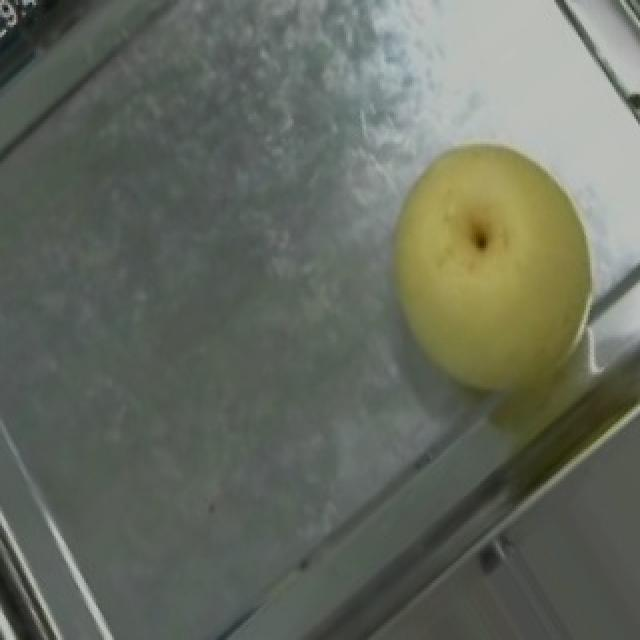Fruit: (340, 104, 640, 437)
